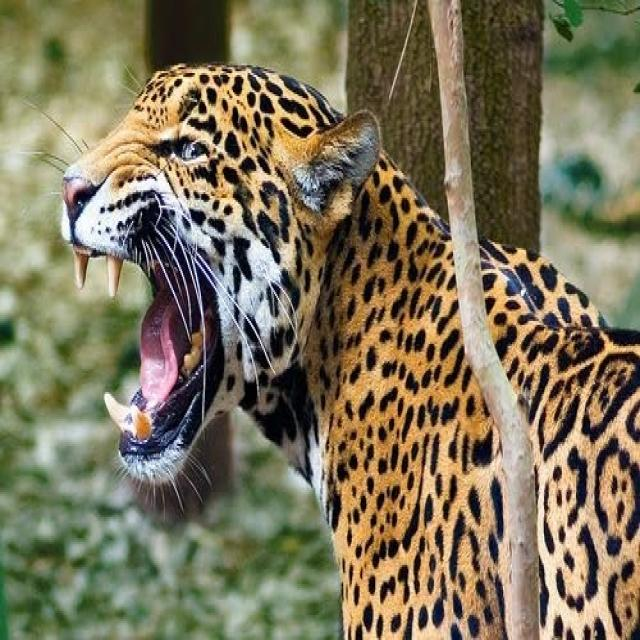Jaguar: (59, 44, 640, 640)
